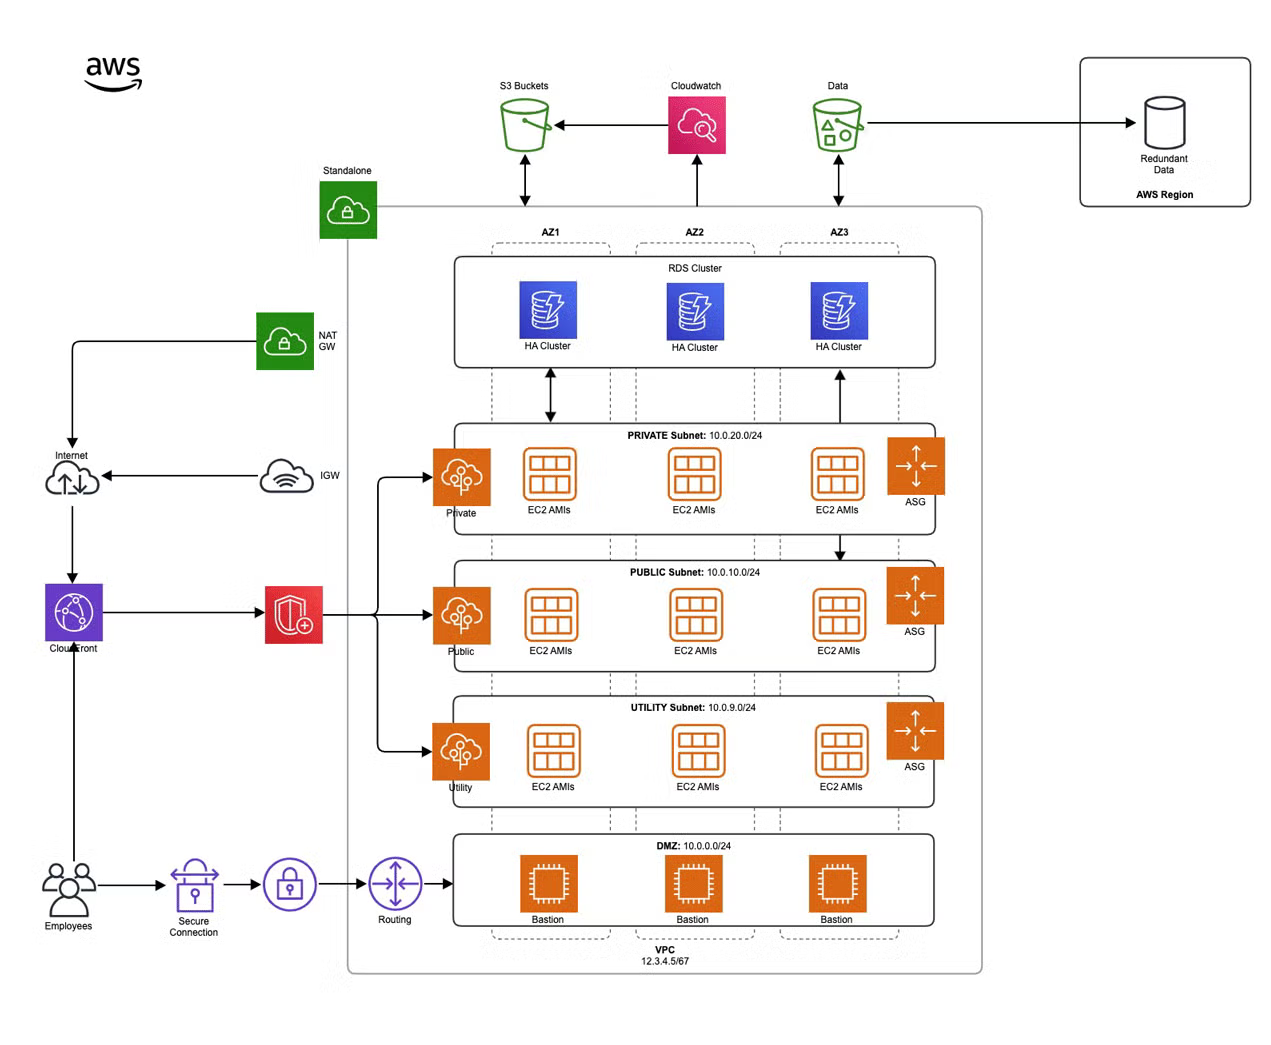auto scaling: (889, 569, 943, 625), (889, 703, 943, 758), (889, 440, 943, 493)
cloudfront: (46, 587, 102, 642)
cloudwatch: (670, 97, 725, 153)
dynamodb: (668, 284, 723, 340), (812, 283, 865, 340), (523, 283, 574, 338)
ec2: (519, 585, 582, 643), (812, 721, 871, 780), (670, 721, 728, 781), (809, 445, 867, 503), (812, 585, 870, 643), (665, 587, 725, 643), (521, 856, 577, 914), (521, 448, 580, 503), (665, 448, 723, 503), (527, 722, 582, 779), (812, 857, 867, 911), (667, 859, 722, 911)
elastic beanstalk: (433, 588, 489, 643), (435, 451, 489, 503), (435, 725, 487, 779)
guardduty: (266, 591, 322, 642)
s3: (493, 92, 558, 153), (809, 94, 870, 155)
vpc: (320, 183, 375, 239), (258, 316, 311, 367)
